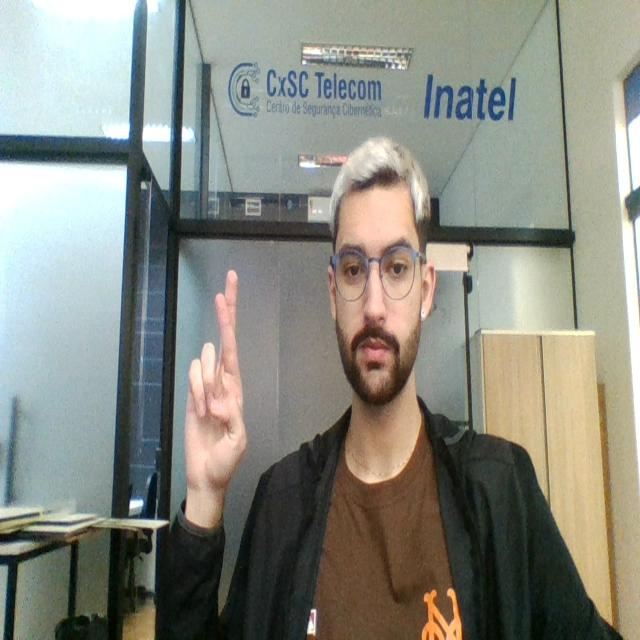R: (183, 272, 250, 491)
